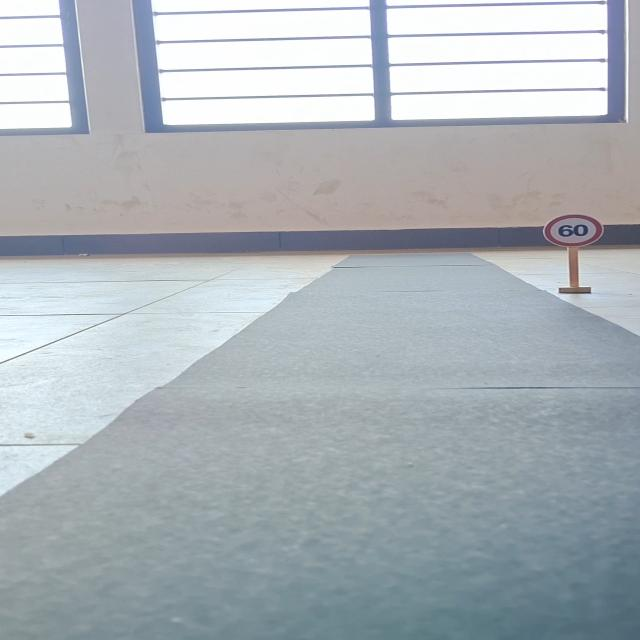Speed60: (538, 212, 607, 247)
